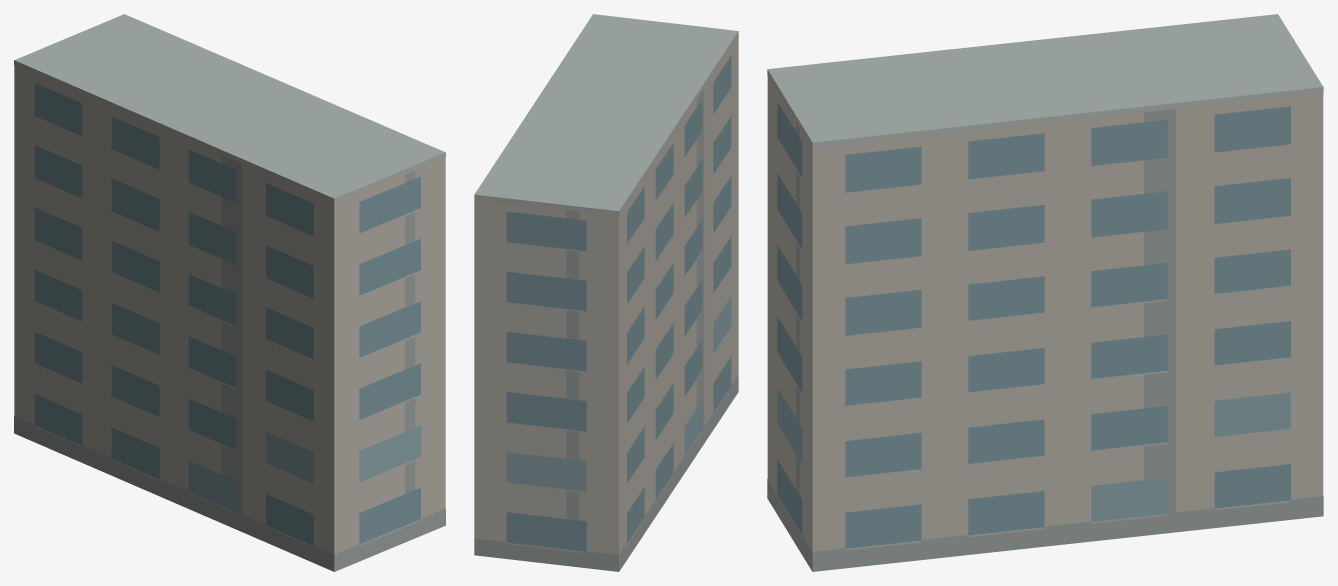
Rendered from survey-upis-32562113.glb.
3 views of the same model, side by side, from view 1: azimuth 30°, elevation 25°; view 2: azimuth 150°, elevation 25°; view 3: azimuth 270°, elevation 25° (orthographic). The views are drawn at different scales.
Parts seen in each view (by area): view 1: survey-upis-32562113.tmp; view 2: survey-upis-32562113.tmp; view 3: survey-upis-32562113.tmp.
Boxes of the visible parts, box(x1,y1,x2,y2) form: survey-upis-32562113.tmp: box(14, 14, 445, 571); survey-upis-32562113.tmp: box(474, 14, 738, 571); survey-upis-32562113.tmp: box(767, 14, 1323, 571).
Size of the model in its own units: 11.13 by 17.3 by 20.32.
